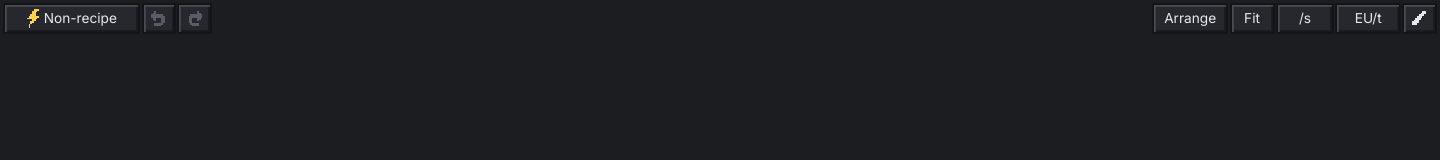
Test: the board's toolbar › EU/t becomes Amps at the tier most machines run at, and Avg and Peak swap
Step 1. Click the button "EU/t" → click(1368, 19), box [1338, 5, 1399, 32]
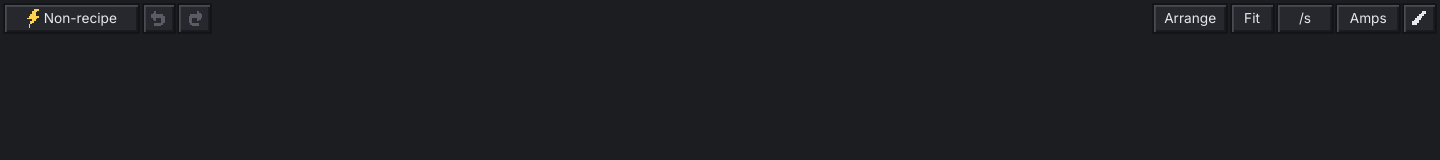
Check: the button "Amps" is shown
Step 2. Click the button "Amps" → click(1368, 19), box [1338, 5, 1399, 32]
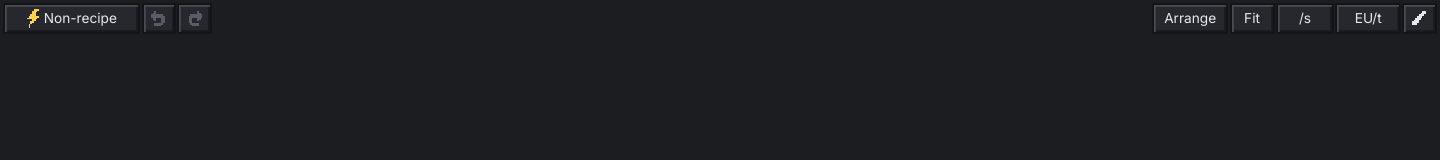
Check: the button "EU/t" is shown, box [1338, 5, 1399, 32]
